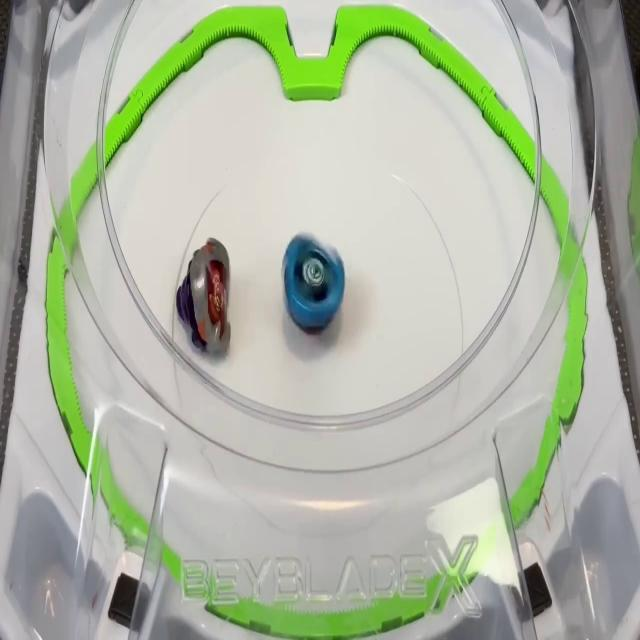Beyblade: (174, 237, 233, 358), (282, 232, 346, 336)
